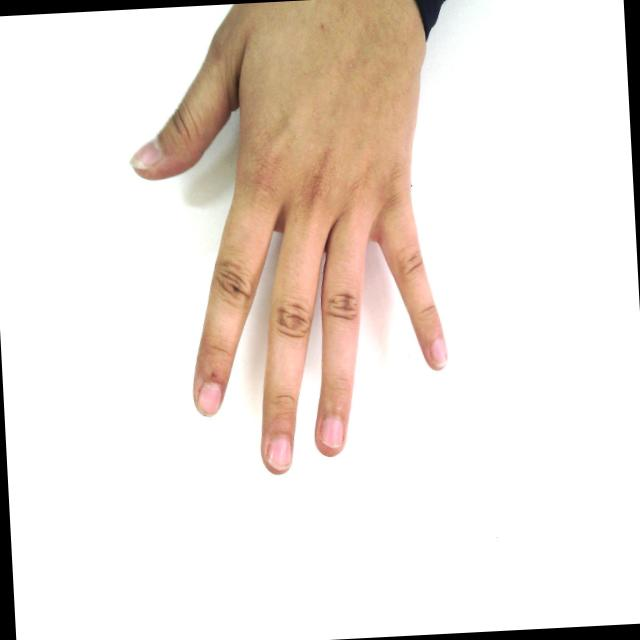Nail: (129, 136, 162, 169), (196, 382, 222, 416), (267, 436, 291, 471), (320, 418, 343, 448), (431, 338, 448, 369)
